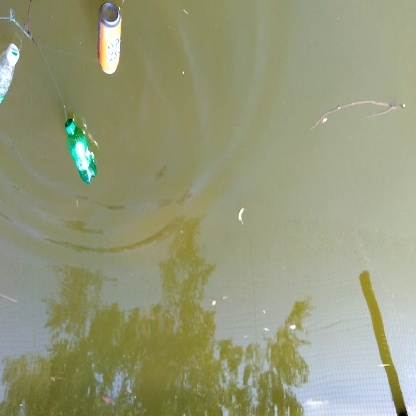bottle: (94, 2, 127, 75)
